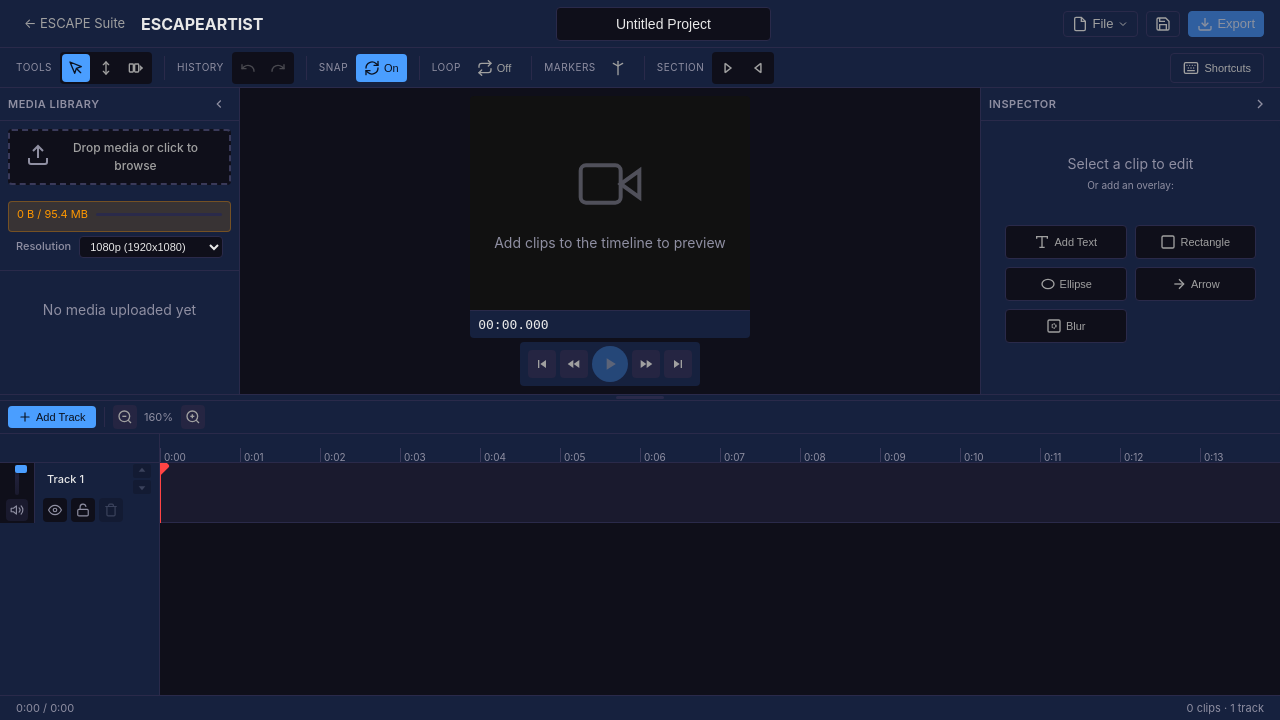
it: App › inspector panel › toggles inspector collapsed state when button clicked
// Click to collapse
Click the button titled "Hide inspector". click: (1260, 104)
box: [1248,92,1272,116]
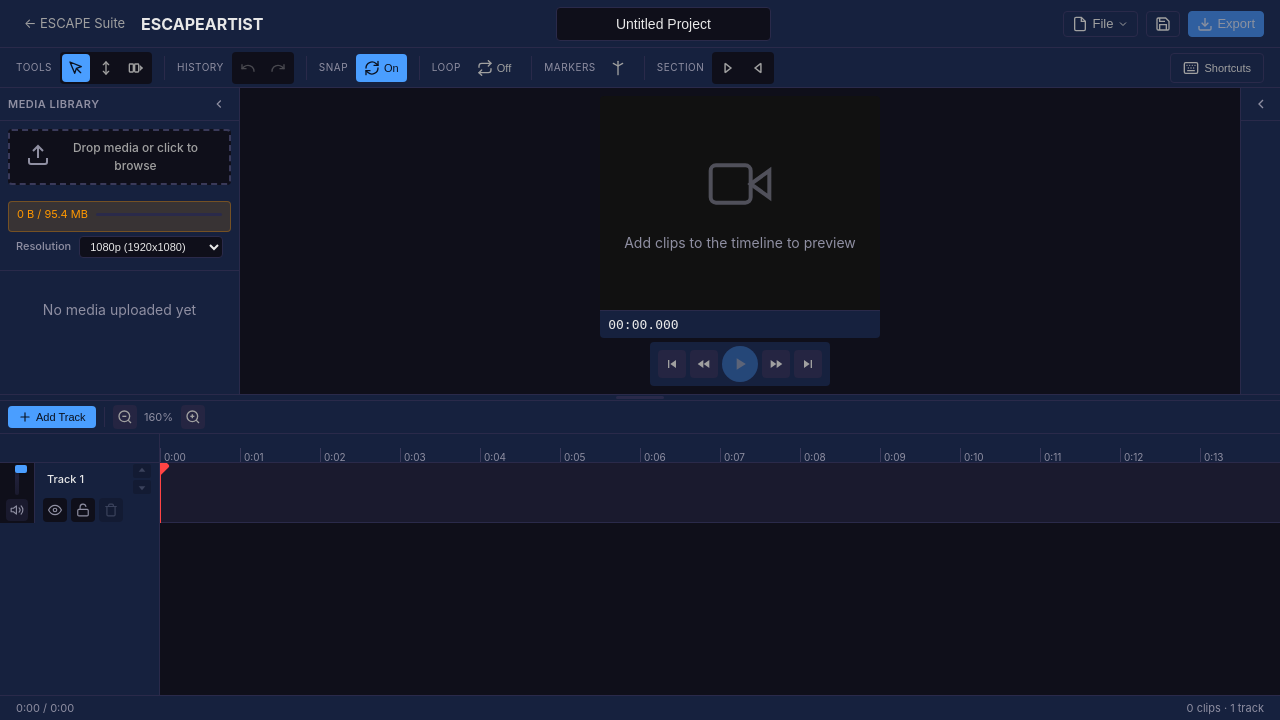
Expected: the button titled "Show inspector" is shown, [1248,92,1272,116]
